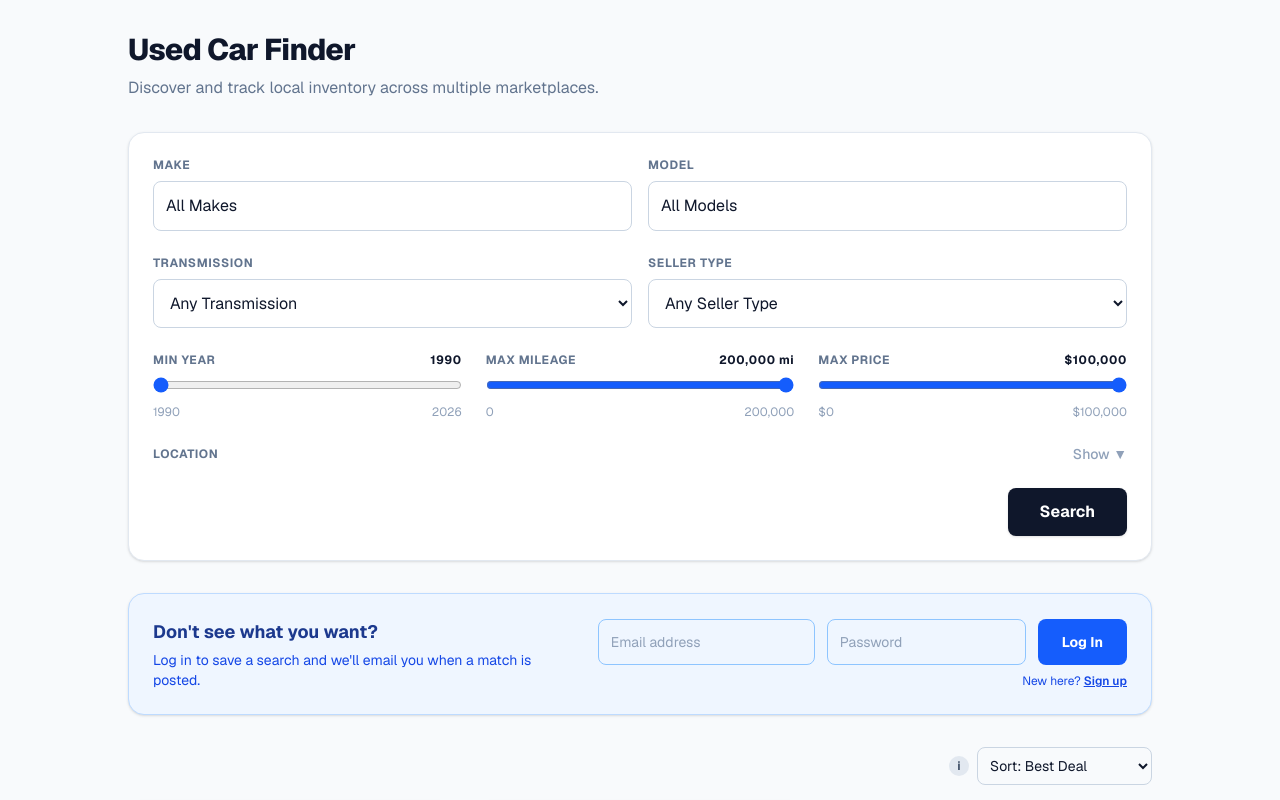
Test: search filters › drops a selected model that's no longer valid after the make selection narrows
Click the button "All Models" at (699, 206), box [648,181,1127,231]
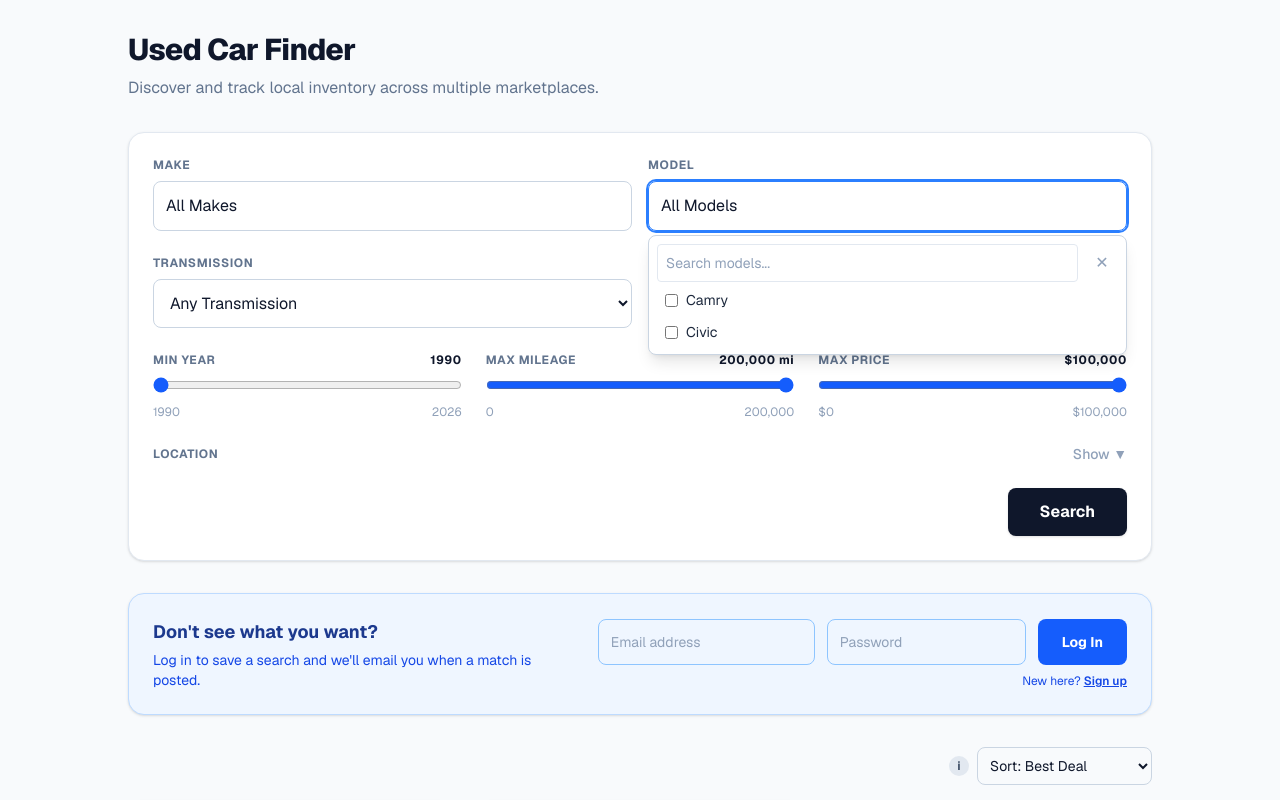
Click the checkbox labelled "Civic" at (672, 332), box [665,326,678,338]
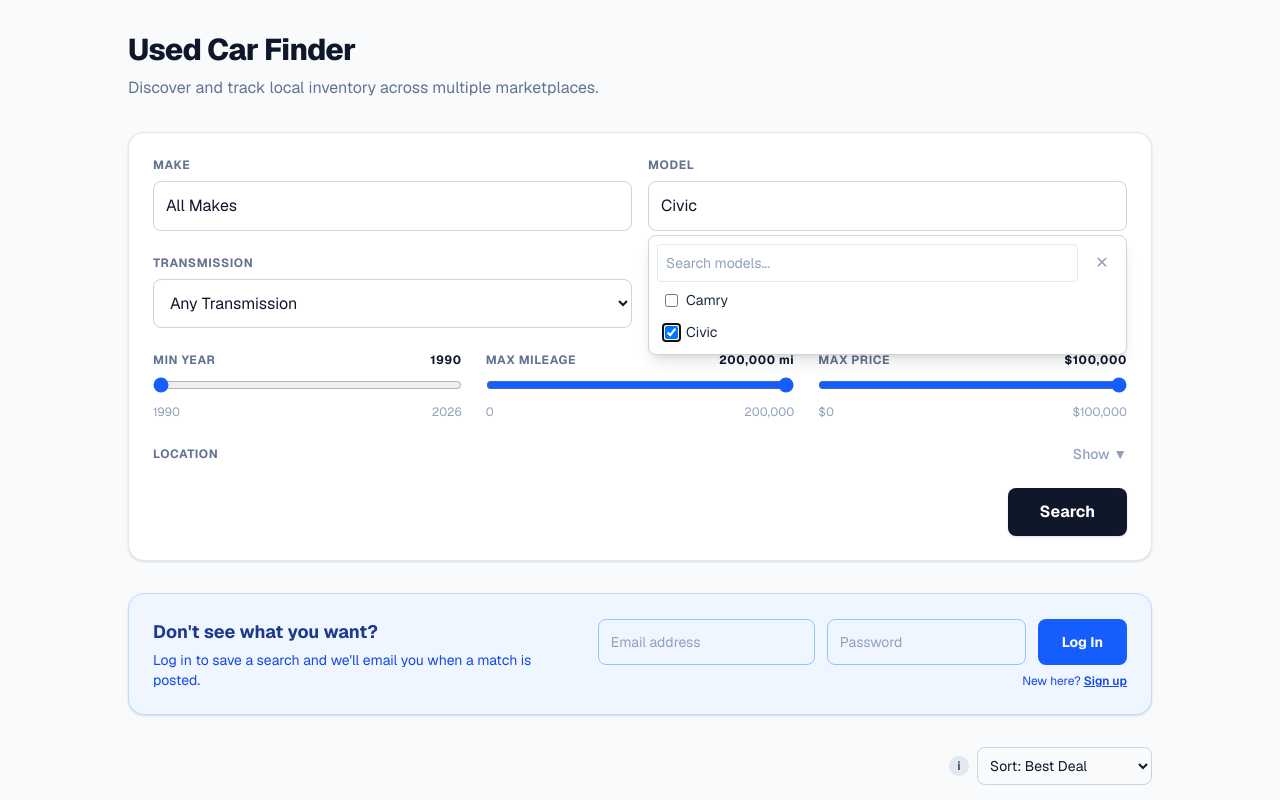
Now the button named "Model" reads "Civic", box [648,181,1127,231]
Click the button labelled "All Makes" at (202, 206), box [153,181,632,231]
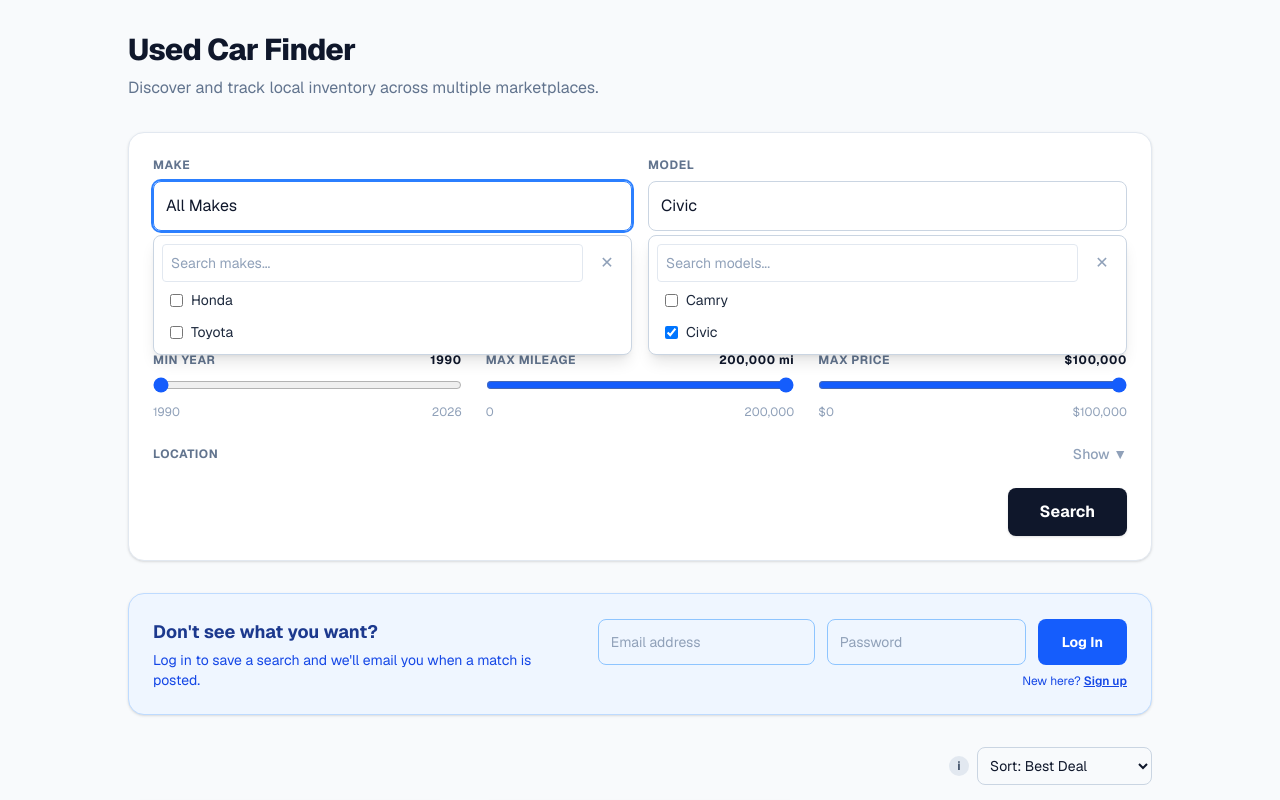
Click the checkbox labelled "Toyota" at (176, 332), box [170,326,183,338]
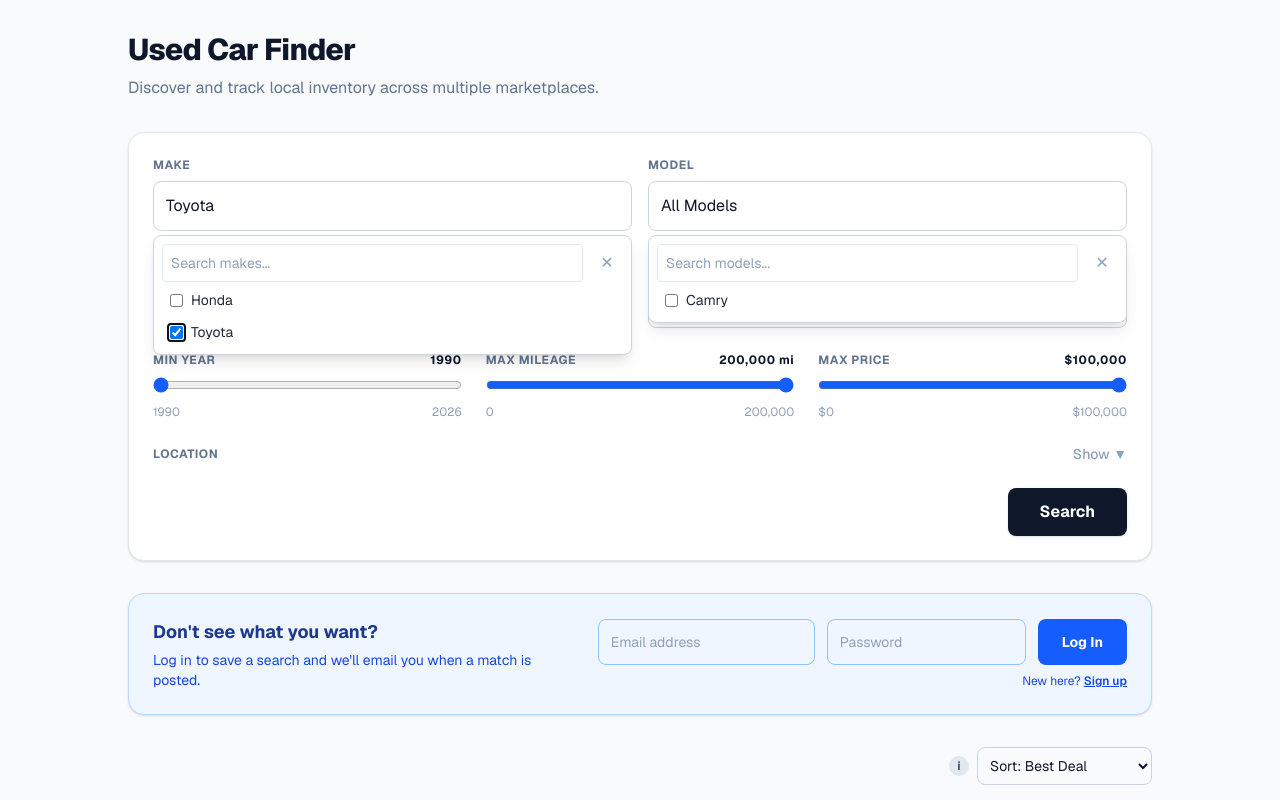
Now the button labelled "All Models" is shown, box [648,181,1127,231]
